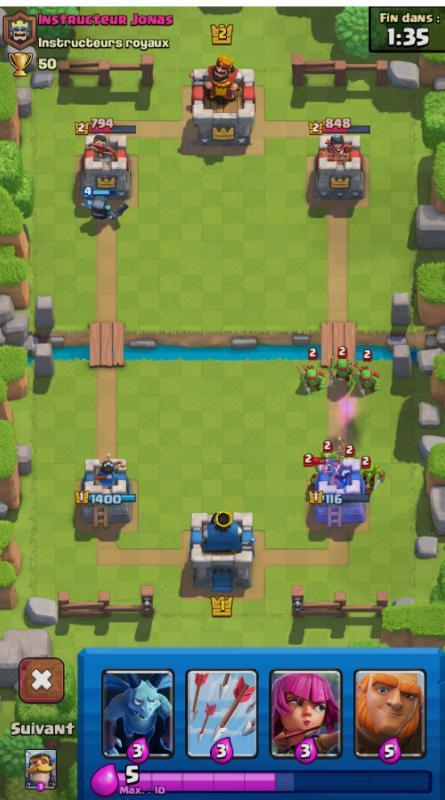enemy_goblins: (358, 453, 387, 489)
enemy_spear_goblins: (323, 339, 357, 391), (353, 344, 383, 402), (294, 347, 326, 395)
player_mini_pekka: (72, 185, 134, 231)
